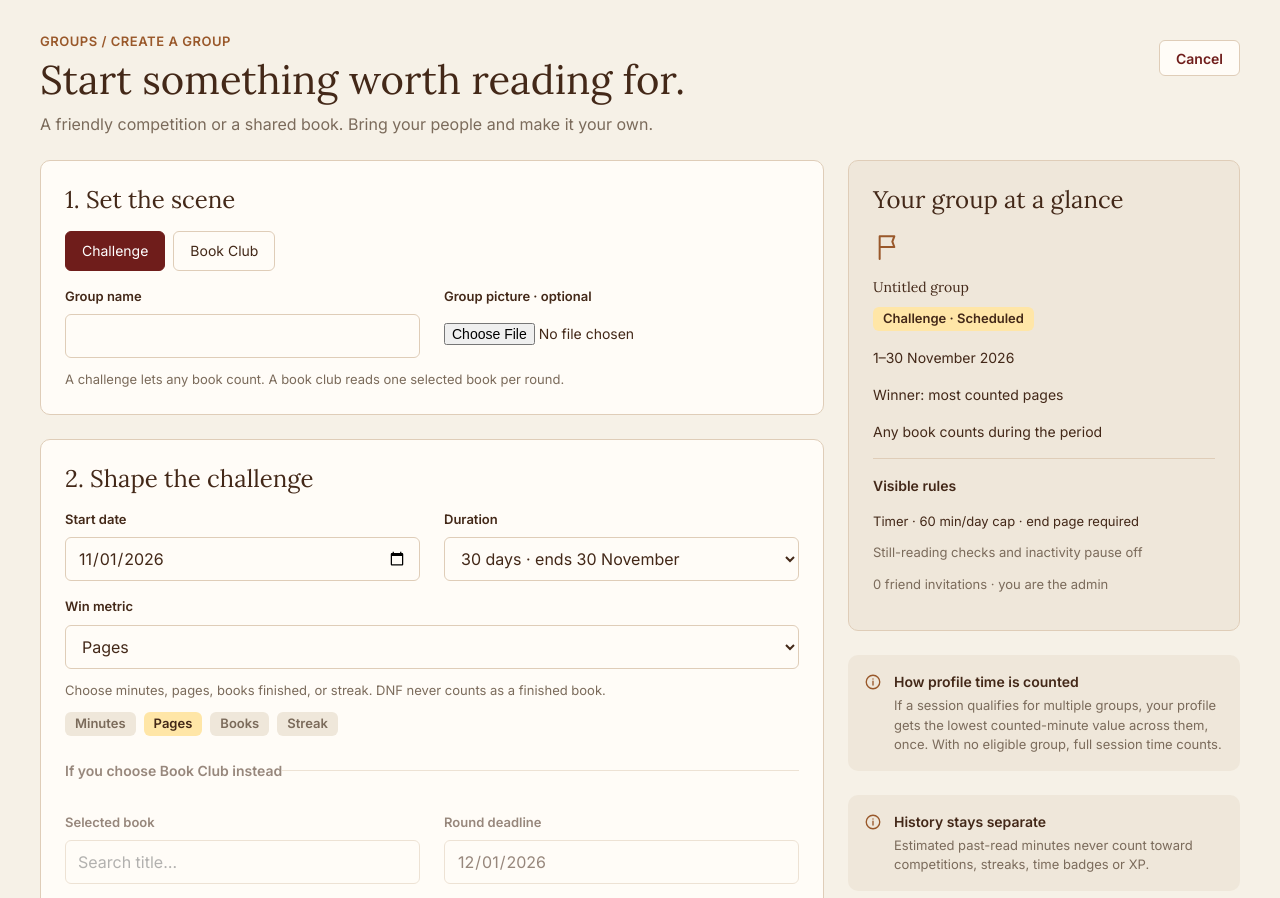
Test: CreateGroupView › switches to the book club fields
The image size is (1280, 898).
Click the button with class "segment" showing "Book Club" at {"x": 224, "y": 250}, box left=173, top=230, right=275, bottom=270
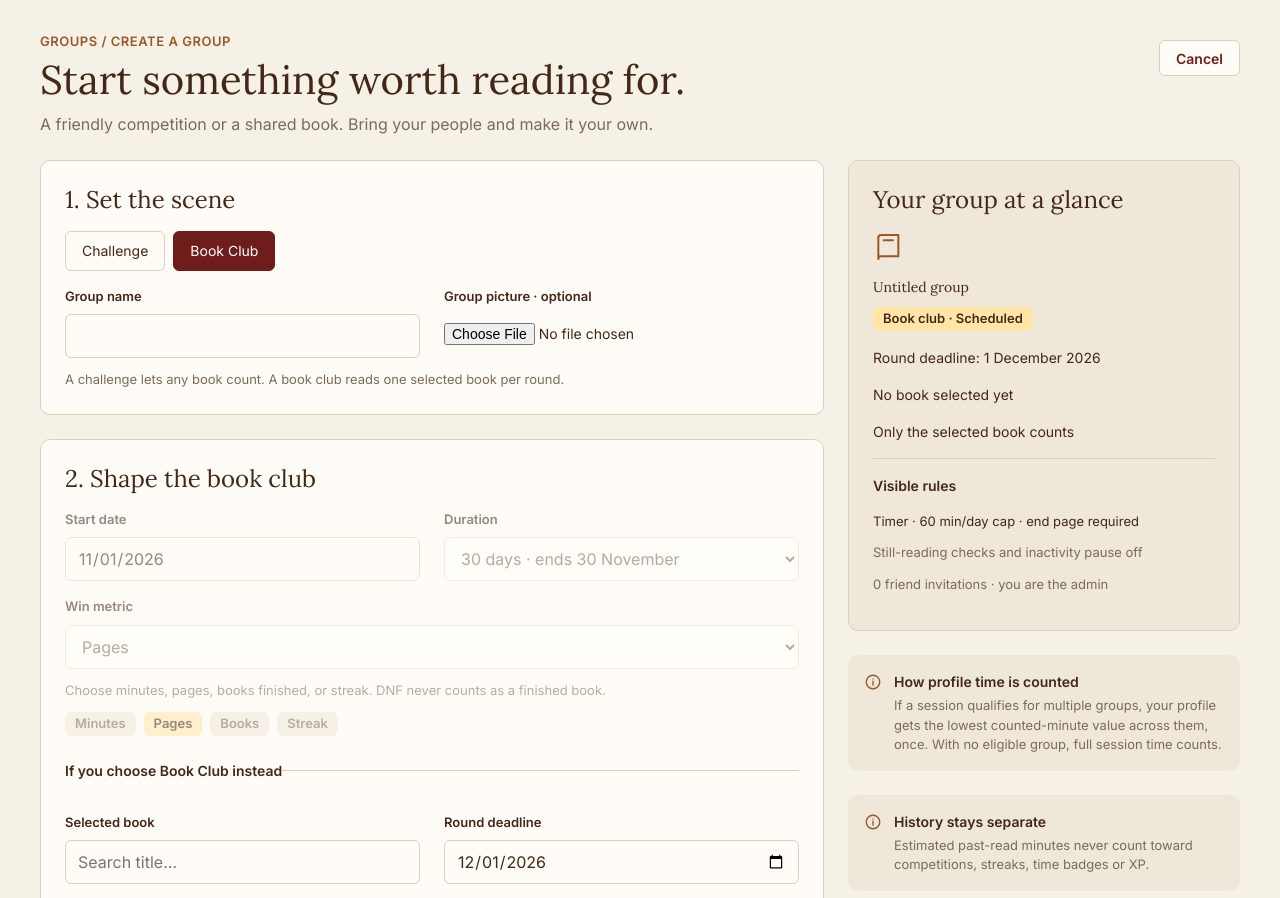
Result: the element with class "group" that starts with "Start date" is disabled at left=65, top=494, right=799, bottom=736
Result: the heading with id "shape-title" reads "2. Shape the book club" at left=65, top=462, right=316, bottom=494
